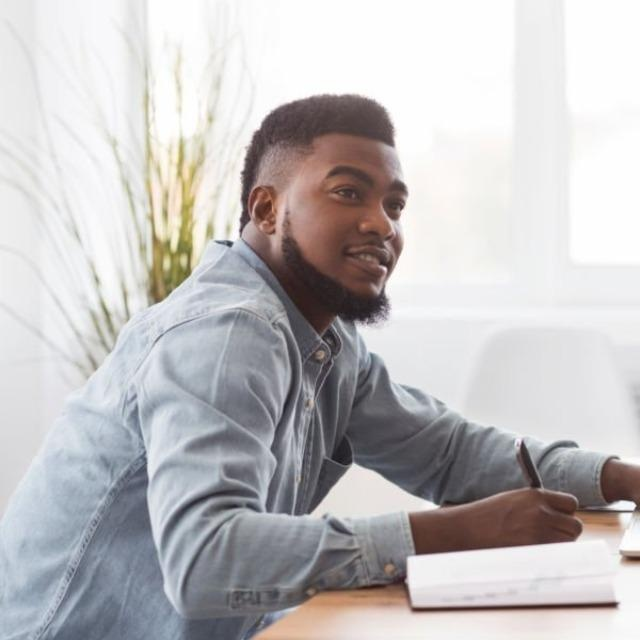Sin_Casco_Mascarrilla: (240, 92, 407, 323)
